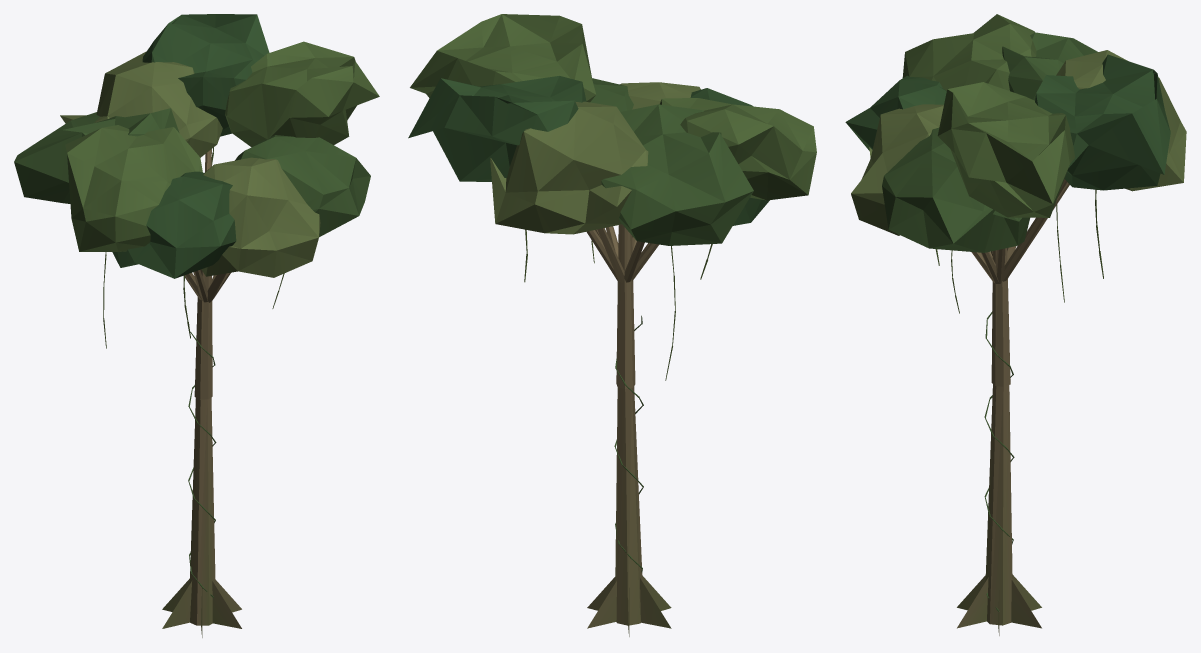
Rendered from jungle-emergent-vines.glb.
3 renders of one model, left to right at view 1: azimuth 30°, elevation 25°; view 2: azimuth 150°, elevation 25°; view 3: azimuth 270°, elevation 25°, orthographic. The views are drawn at different scales.
Visible parts, largest first — view 1: Тропический гигант с лианами; view 2: Тропический гигант с лианами; view 3: Тропический гигант с лианами.
Part boxes in pixels (<box>): Тропический гигант с лианами: <box>14,14,379,637</box>; Тропический гигант с лианами: <box>408,14,816,636</box>; Тропический гигант с лианами: <box>845,14,1186,635</box>.
Bounding box in the file's own units: 28.47 × 43.45 × 23.42.
